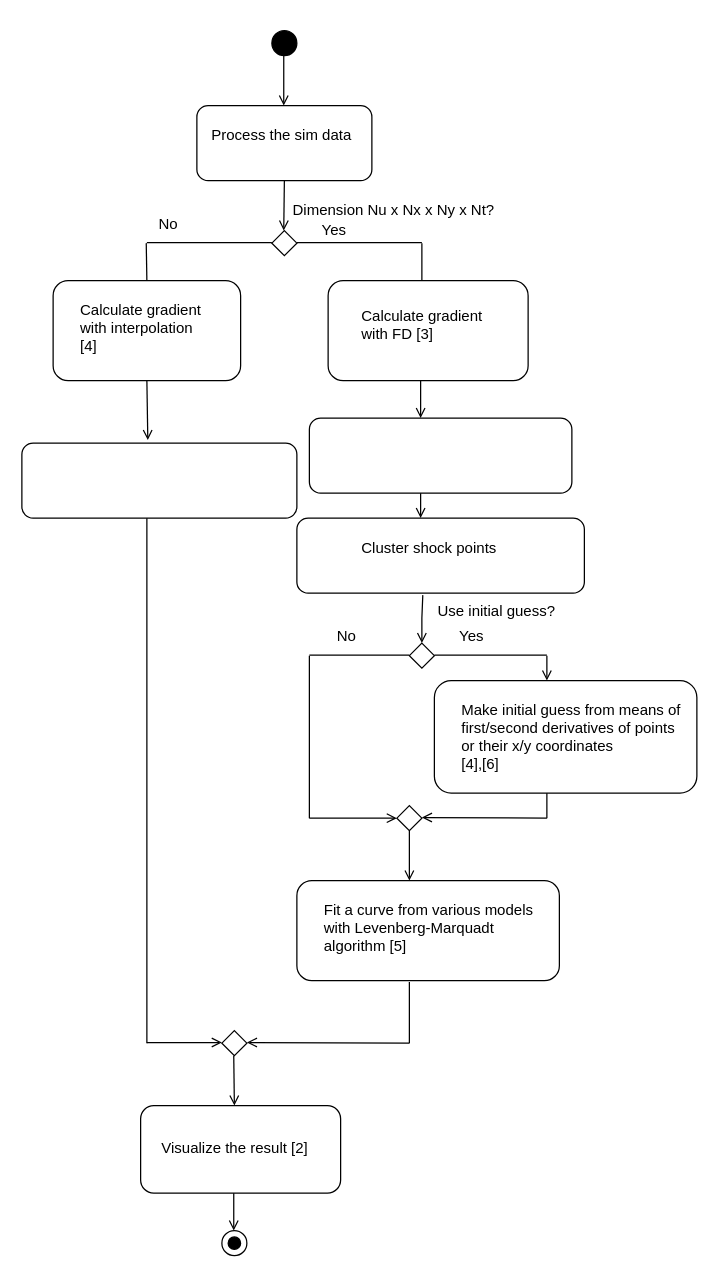
Some shapes in this 719 by 1278 pixel diagram are drawn without their labels. The shapes that lost their labels are listed below. From the top down, each one's box as (x1, y1, x2, y2) in pixels, then its label:
(308, 417, 572, 493): Get shock points (points with high gradients magnitude)
(21, 442, 297, 518): Get shock points (points with high gradients)
